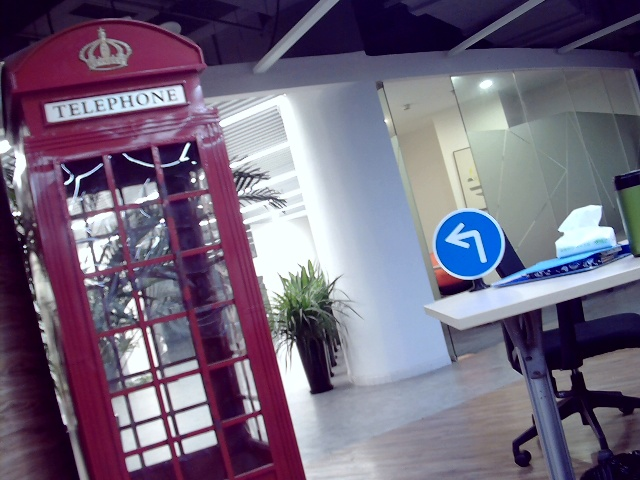turn_left: (441, 220, 489, 263)
